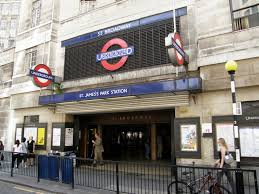London Underground: (95, 38, 135, 69), (28, 63, 54, 86), (168, 32, 184, 66)
